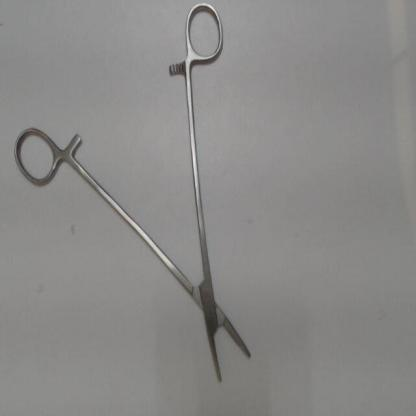8 Mayo Needle Holder: (10, 1, 262, 393)
